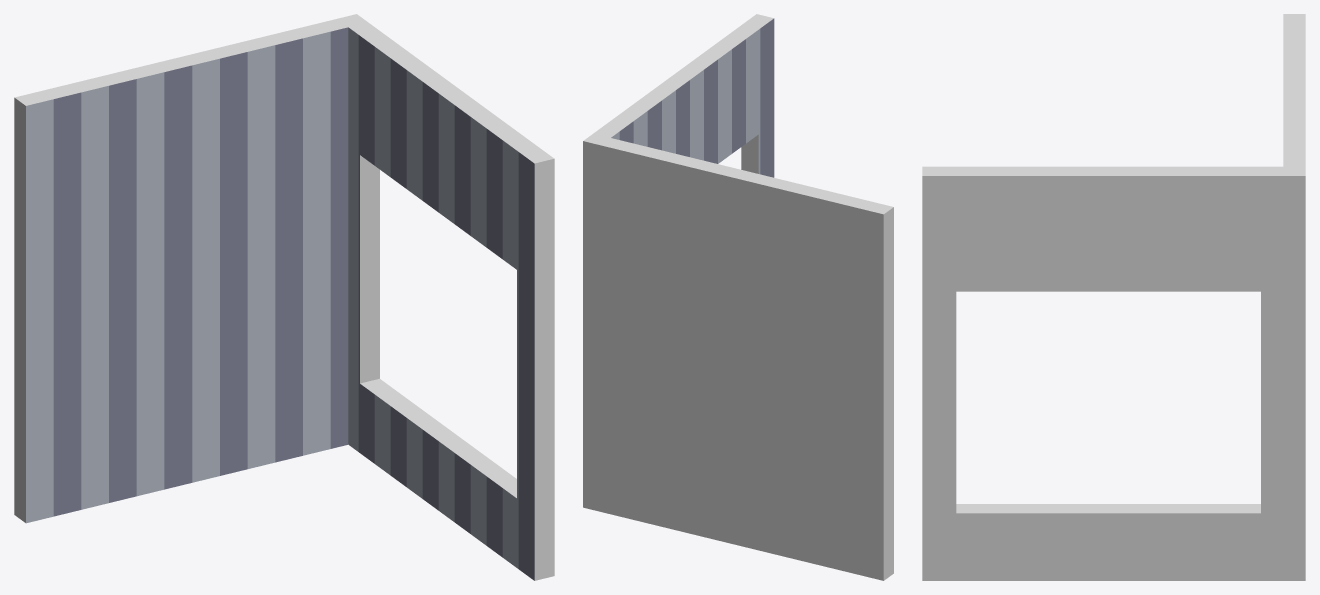
Rendered from Wall1_C8_14.fbx.
The picture shows the model from 3 angles, left to right: view 1: azimuth 30°, elevation 25°; view 2: azimuth 150°, elevation 25°; view 3: azimuth 270°, elevation 25°; orthographic projection. The views are drawn at different scales.
Visible parts, largest first — view 1: Wall1_C8_14; view 2: Wall1_C8_14; view 3: Wall1_C8_14.
Part boxes in pixels (bbox=[...]): Wall1_C8_14: bbox=[14, 14, 554, 580]; Wall1_C8_14: bbox=[583, 14, 893, 580]; Wall1_C8_14: bbox=[922, 14, 1305, 580].
Bounding box in the file's own units: 258 × 300 × 258.
